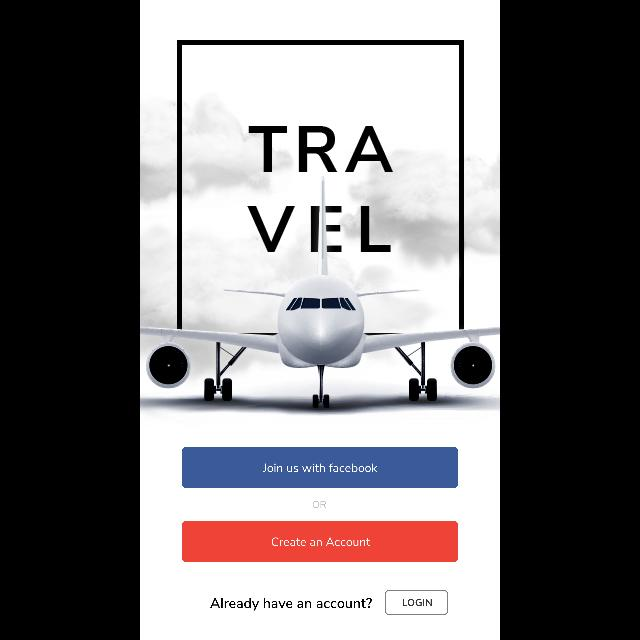image: (140, 41, 500, 413)
text: (210, 598, 372, 610), (313, 501, 327, 509)
textbutton: (182, 448, 458, 488), (182, 522, 458, 562), (386, 590, 448, 614)
